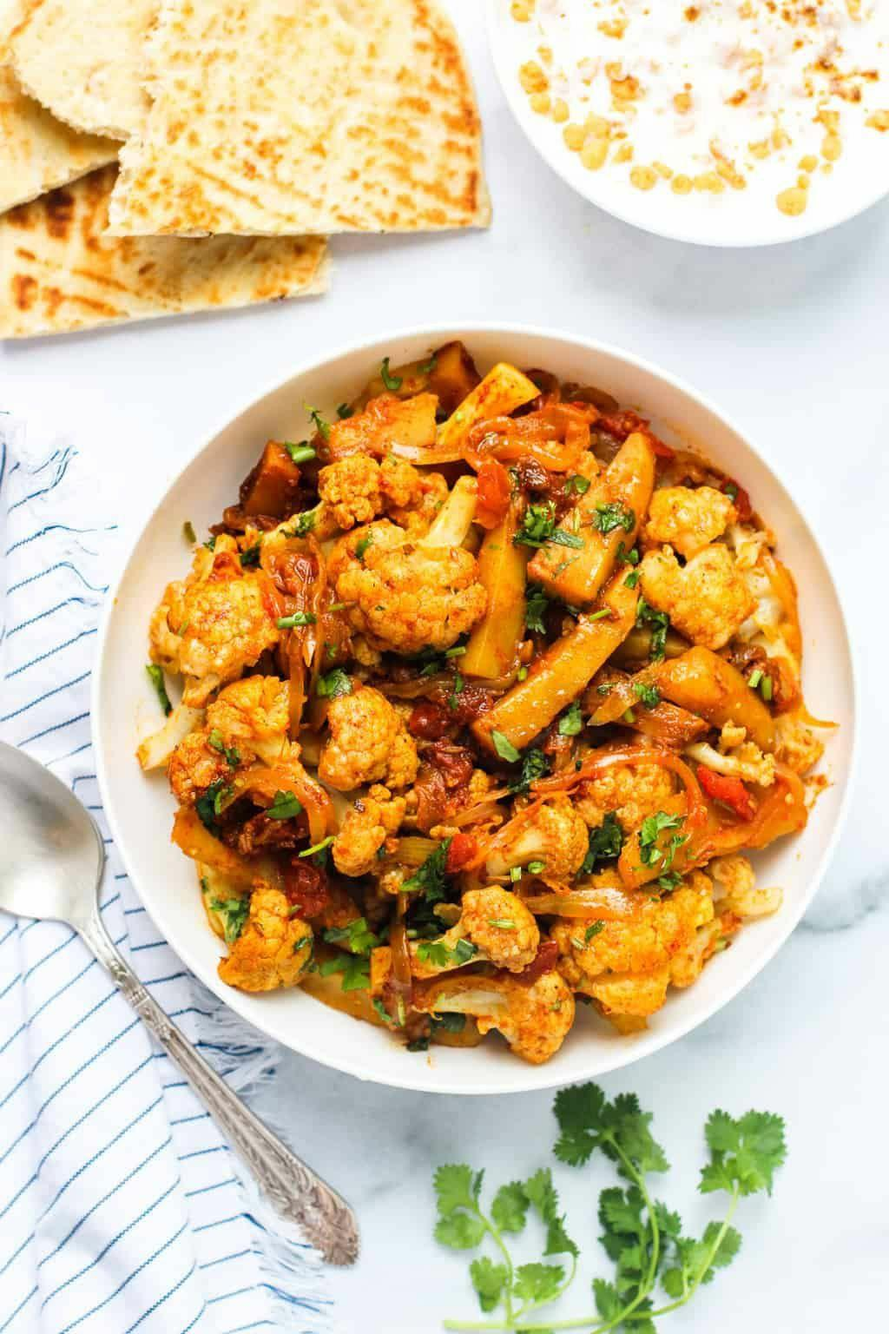AlooGobi: (137, 339, 838, 1060)
